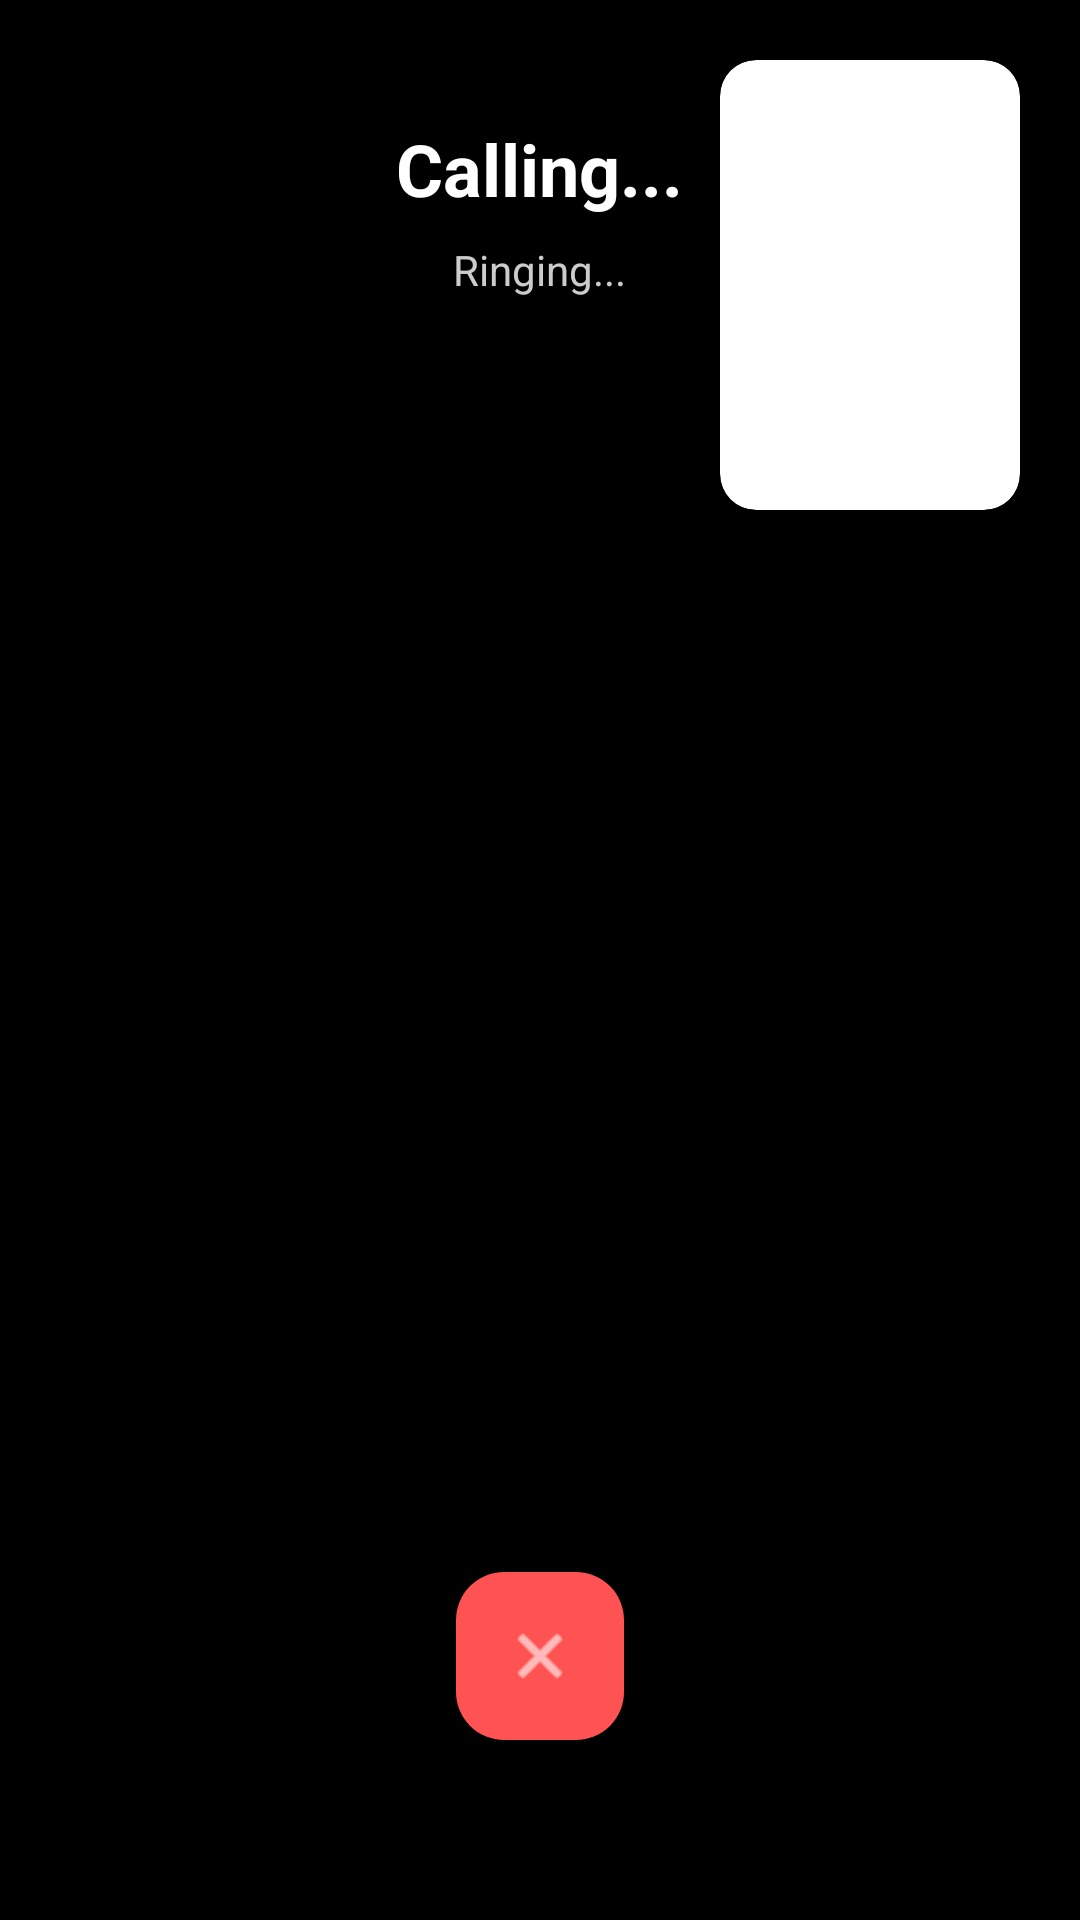

Icon bounding boxes for this 1080×1920 phone screenshot, format (x1=x1, y1=y1, x2=x2, y2=y2):
close clear cancel: (x1=456, y1=1572, x2=624, y2=1740)
